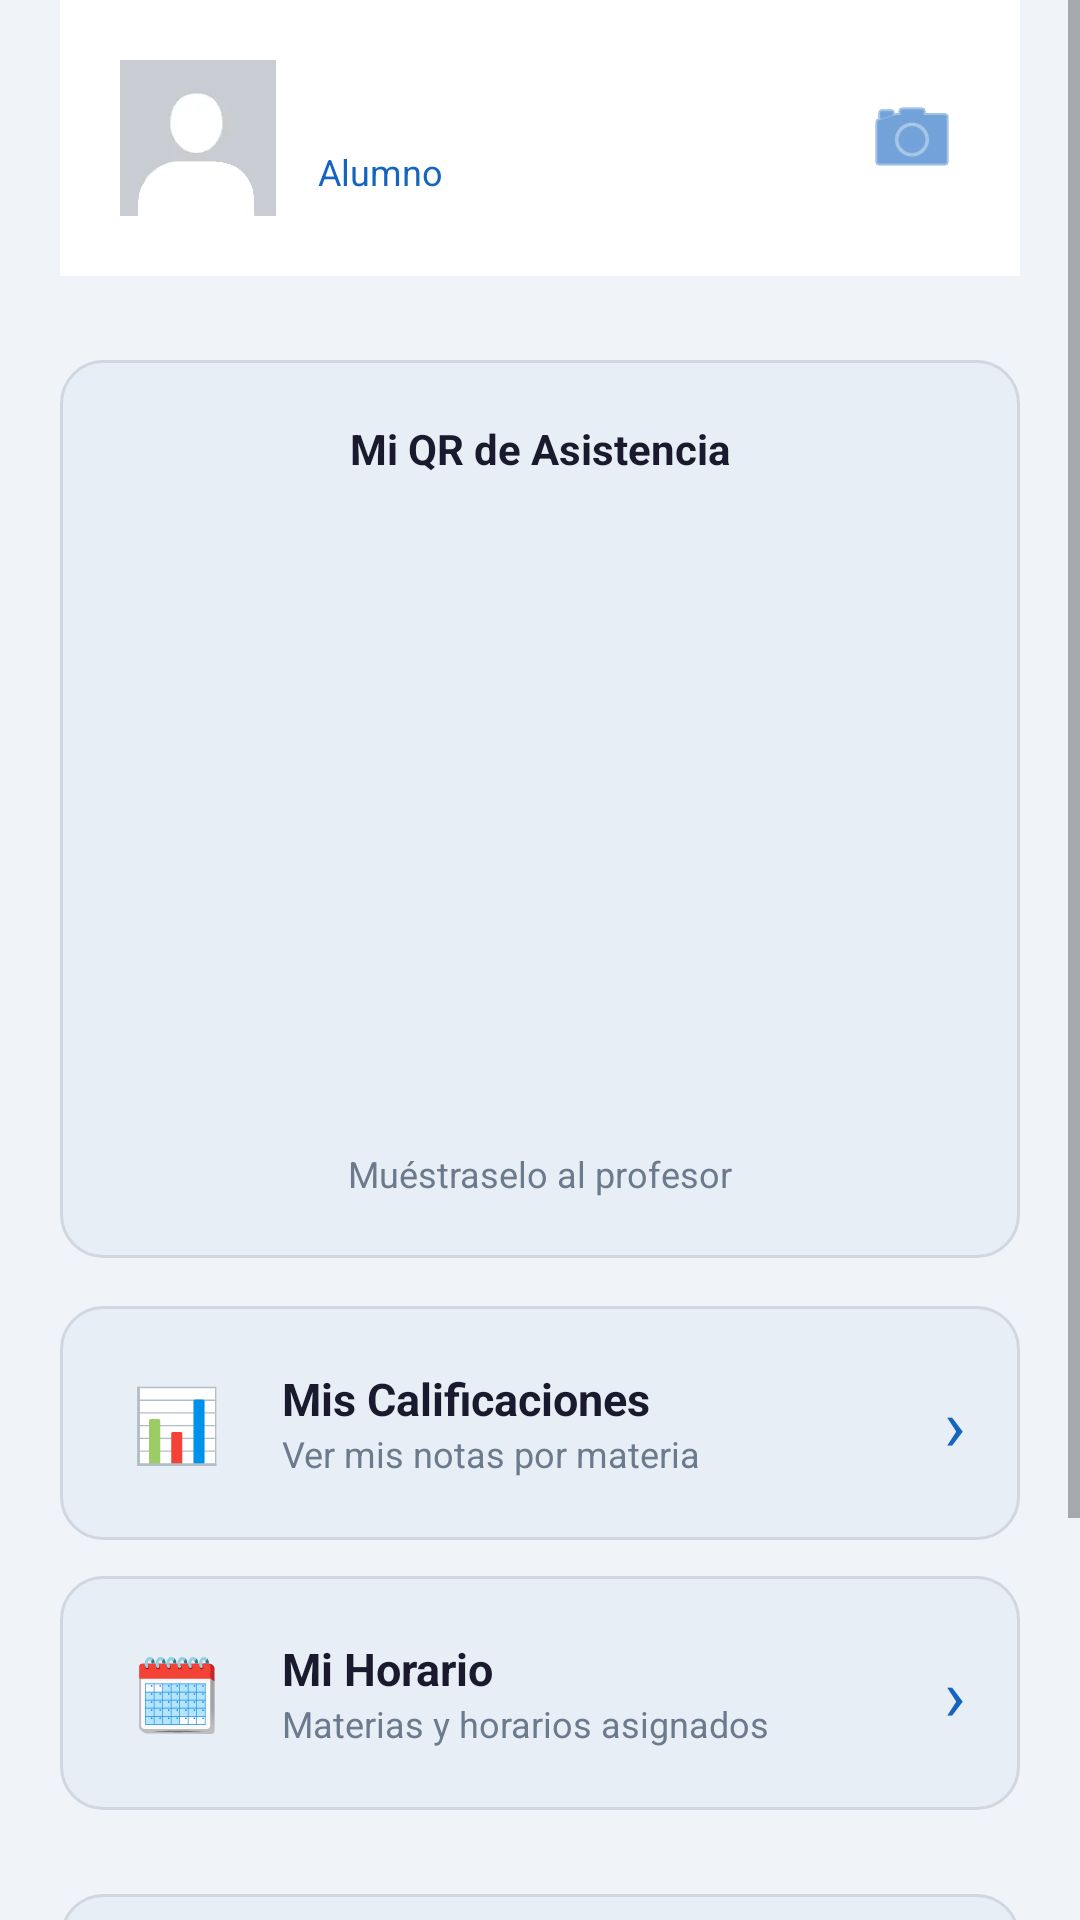

Icons on this 1080x1920 Android screen, each with the point to tap as [x,y]:
camera: [912,136]
perfil: [198,138]
